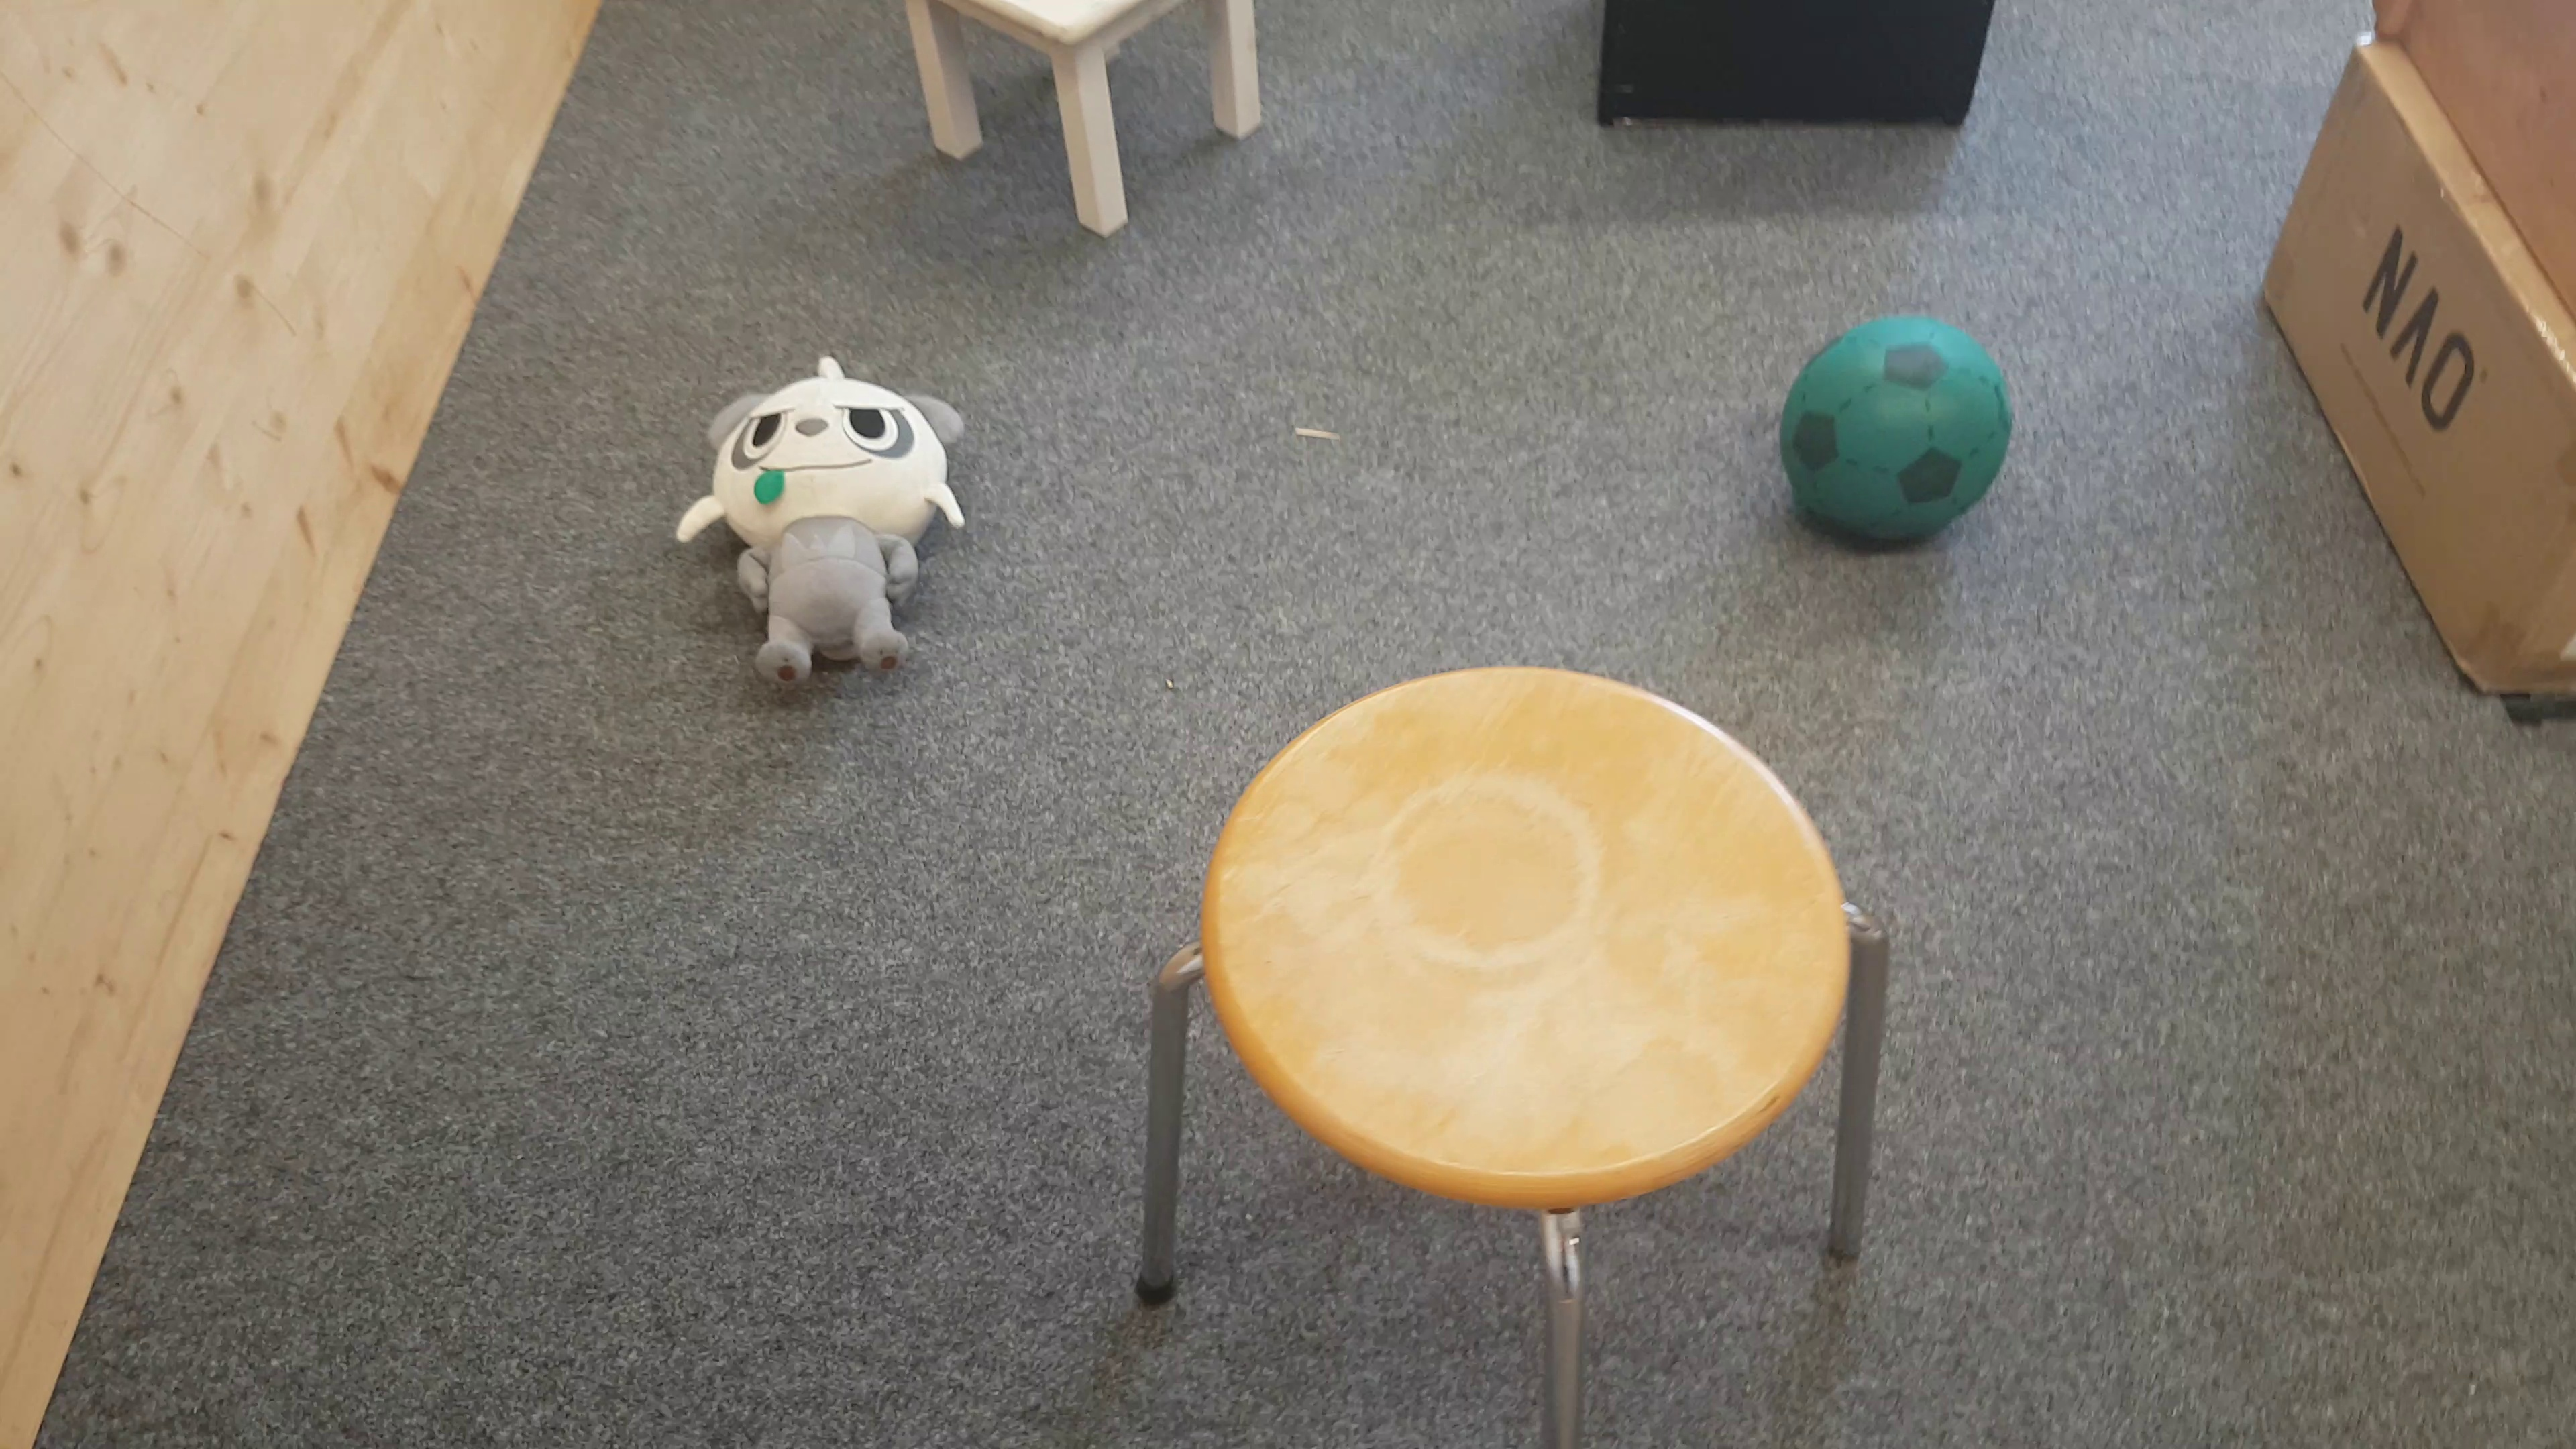grasp: (674, 357, 968, 692)
kick: (1780, 318, 2013, 550)
push: (1598, 2, 1997, 138)
